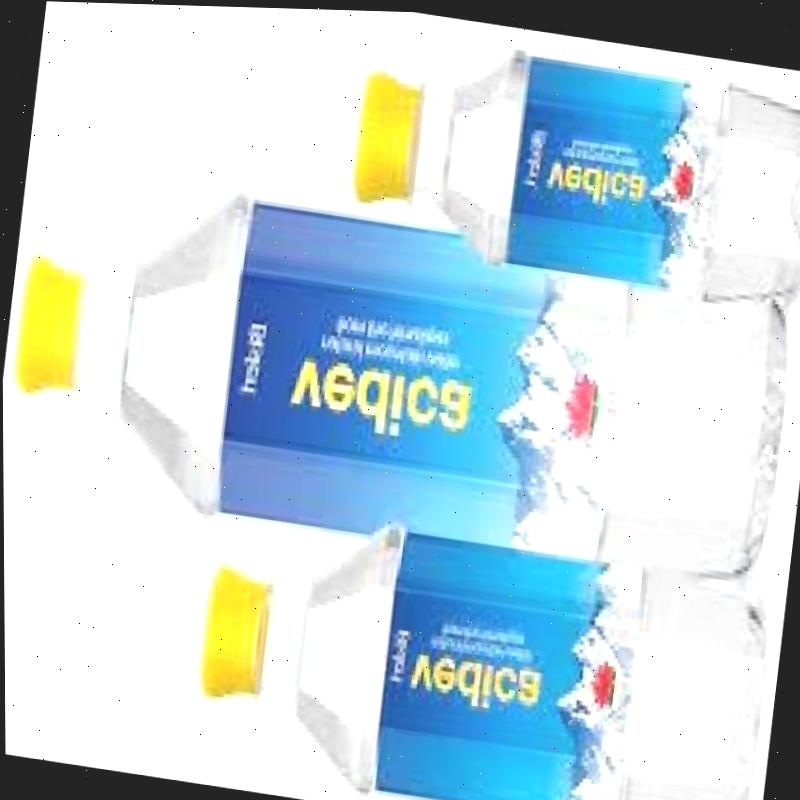botella: (1, 155, 800, 599), (183, 492, 775, 800), (344, 24, 800, 309)
